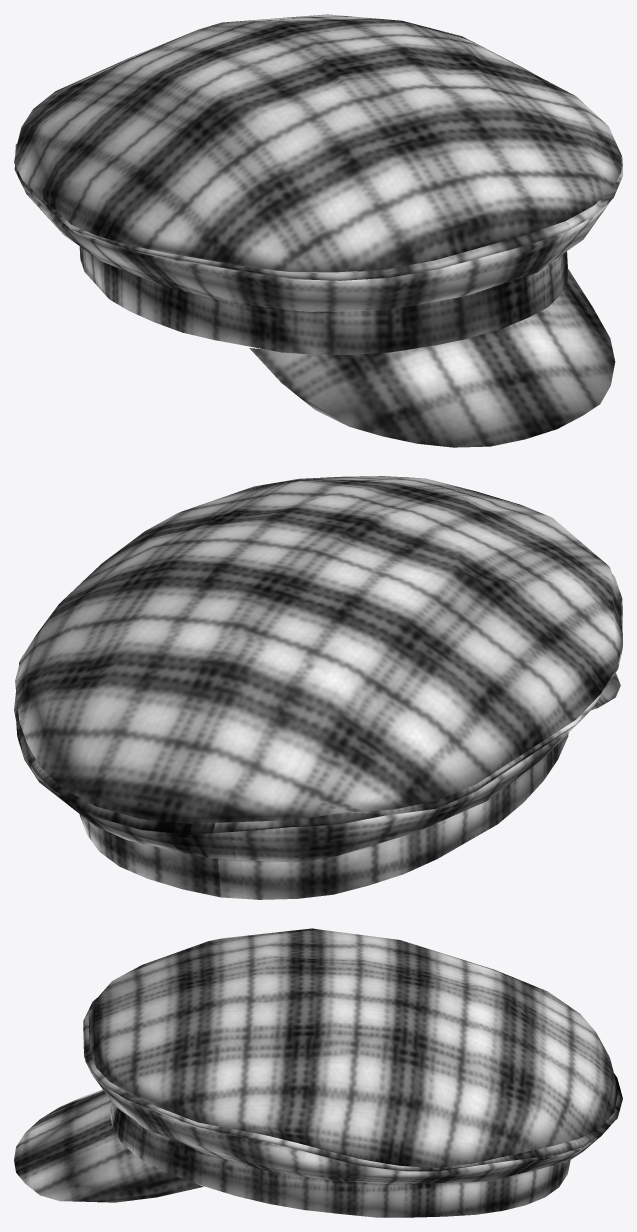
The model's file is Hat 15.FBX.
3 views of the same model, one above another, from view 1: azimuth 30°, elevation 25°; view 2: azimuth 150°, elevation 25°; view 3: azimuth 270°, elevation 25° (orthographic). The views are drawn at different scales.
Visible parts, largest first — view 1: hat 15; view 2: hat 15; view 3: hat 15.
Part boxes in pixels (<box>): hat 15: <box>14,14,622,447</box>; hat 15: <box>14,476,622,899</box>; hat 15: <box>14,928,622,1217</box>.
Size of the model in its own units: 22.34 by 10.43 by 29.09.
1 material, 1 textured.
